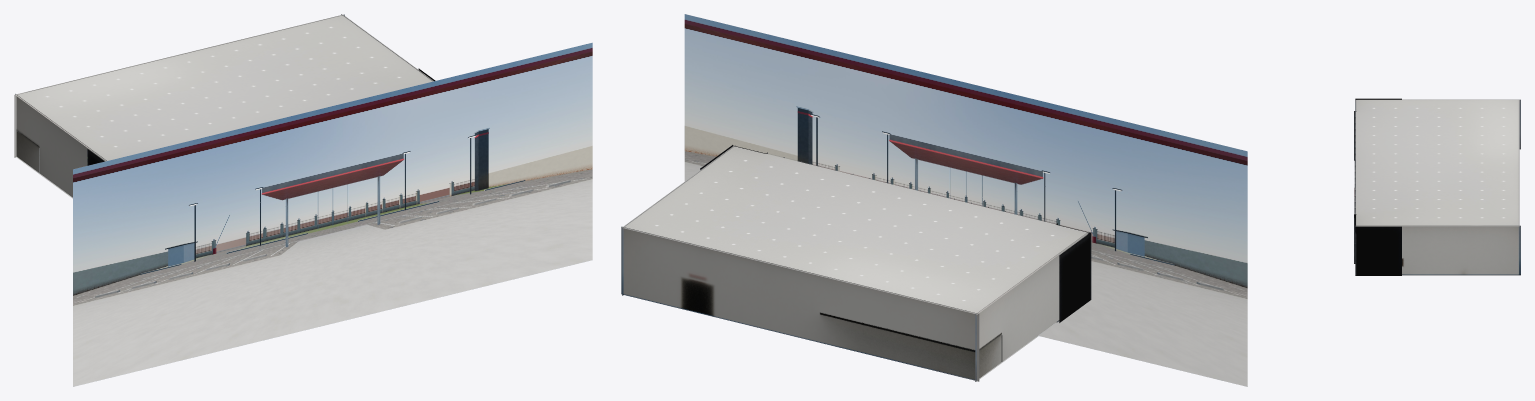
File: int_naija_motors.glb
The picture shows the model from 3 angles, left to right: view 1: azimuth 30°, elevation 25°; view 2: azimuth 150°, elevation 25°; view 3: azimuth 270°, elevation 25°; orthographic projection. The views are drawn at different scales.
Visible parts, largest first — view 1: VIEW_front, ROOM; view 2: VIEW_front, ROOM; view 3: ROOM.
Boxes of the visible parts, left/top/right/bottom form: VIEW_front: left=73, top=42, right=592, bottom=386; ROOM: left=14, top=14, right=435, bottom=198; VIEW_front: left=684, top=14, right=1247, bottom=386; ROOM: left=621, top=145, right=1091, bottom=381; ROOM: left=1354, top=98, right=1520, bottom=275.
Bounding box in the file's own units: 66 × 26.4 × 34.
Materials: 3 (2 with a texture image).
